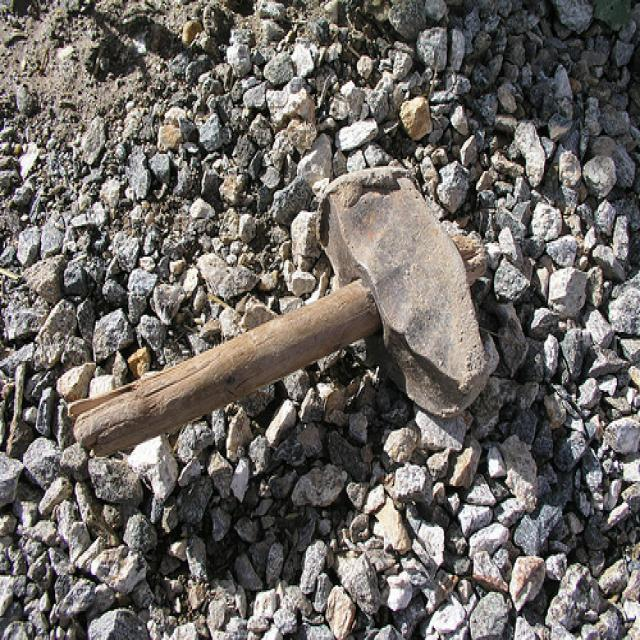hammer: (64, 166, 507, 482)
